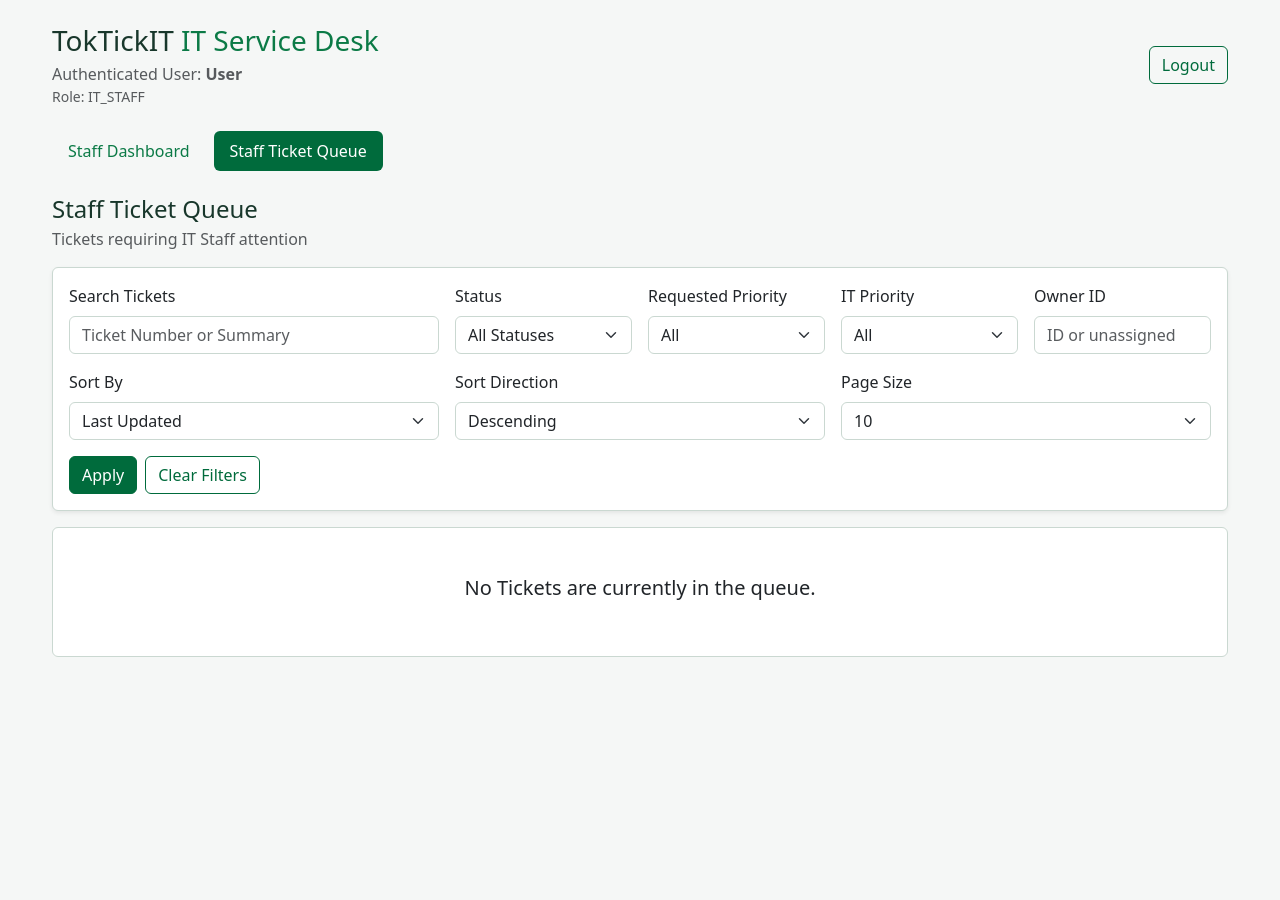
it: UI-04 Staff and Administrator Dashboard › connects IT_STAFF role navigation to the existing list with the API query
Click the button "Staff Dashboard".
click(129, 151)  # box [52,131,206,171]
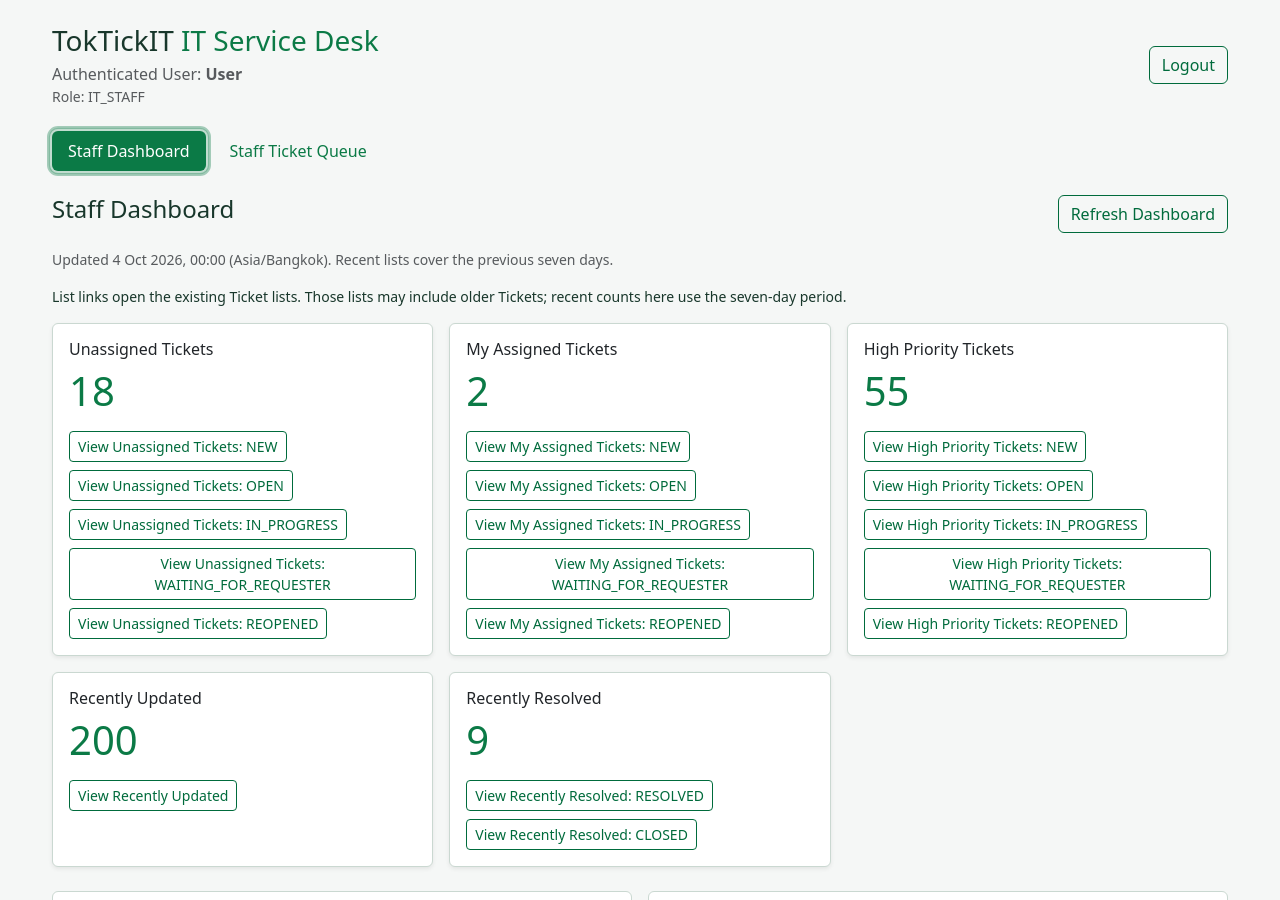
Now the heading "Staff Dashboard" is shown, box [52,195,234,233]
Click the button "View My Assigned Tickets: OPEN".
click(581, 485)  # box [466,470,696,501]
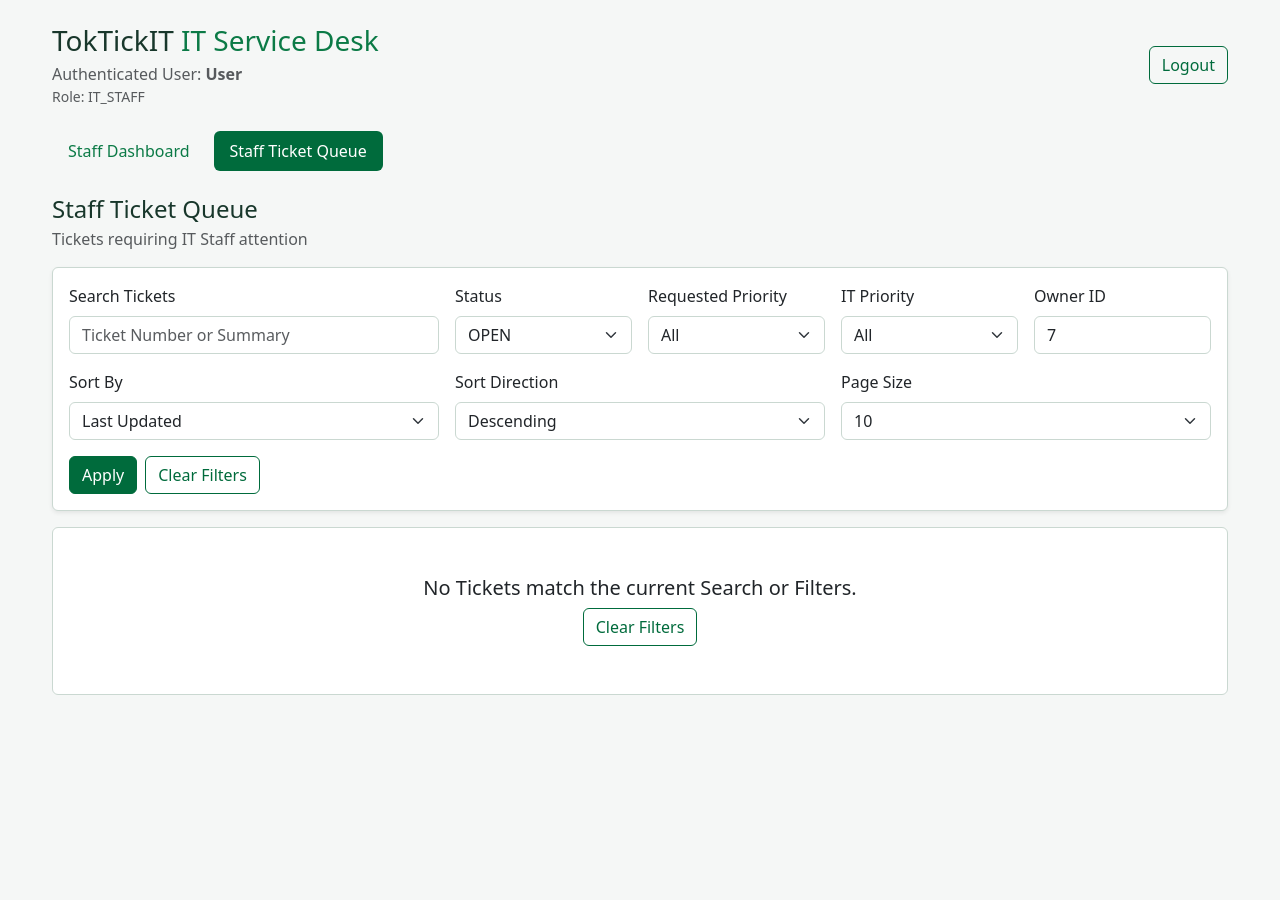
Now the heading "Staff Ticket Queue" is shown, box [52,192,258,225]
